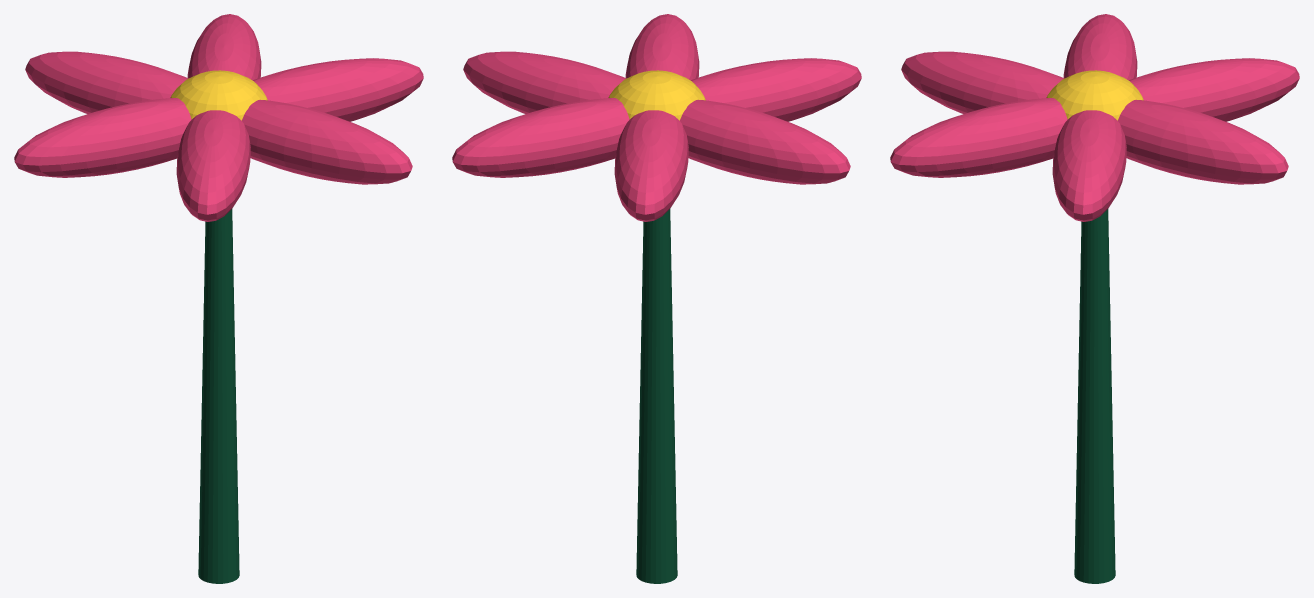
File: florAnimada.glb
3 renders of one model, left to right at view 1: azimuth 30°, elevation 25°; view 2: azimuth 150°, elevation 25°; view 3: azimuth 270°, elevation 25°, orthographic.
Parts seen in each view (by area): view 1: Tallo, Petalo.003, Petalo.005, Petalo, Petalo.002, Petalo.004, Petalo.001, Centro_flor; view 2: Tallo, Petalo.001, Petalo.003, Petalo.004, Petalo, Petalo.002, Petalo.005, Centro_flor; view 3: Tallo, Petalo.005, Petalo.001, Petalo.002, Petalo.004, Petalo, Petalo.003, Centro_flor.
Boxes of the visible parts, box(x1,y1,x2,y2) form: Tallo: box(198, 209, 239, 583); Petalo.003: box(14, 98, 191, 177); Petalo.005: box(242, 99, 412, 184); Petalo: box(253, 58, 423, 121); Petalo.002: box(25, 51, 188, 113); Petalo.004: box(176, 110, 250, 221); Petalo.001: box(187, 14, 261, 80); Centro_flor: box(170, 70, 267, 120); Tallo: box(636, 209, 677, 583); Petalo.001: box(452, 98, 629, 177); Petalo.003: box(680, 99, 850, 184); Petalo.004: box(691, 58, 861, 121); Petalo: box(463, 51, 626, 113); Petalo.002: box(614, 110, 688, 221); Petalo.005: box(625, 14, 699, 80); Centro_flor: box(608, 70, 705, 120); Tallo: box(1074, 209, 1115, 583); Petalo.005: box(890, 98, 1067, 177); Petalo.001: box(1118, 99, 1288, 184); Petalo.002: box(1129, 58, 1299, 121); Petalo.004: box(901, 51, 1064, 113); Petalo: box(1052, 110, 1126, 221); Petalo.003: box(1063, 14, 1137, 80); Centro_flor: box(1046, 70, 1143, 120).
Size of the model in its own units: 0.9986 by 1.2 by 0.8928.
